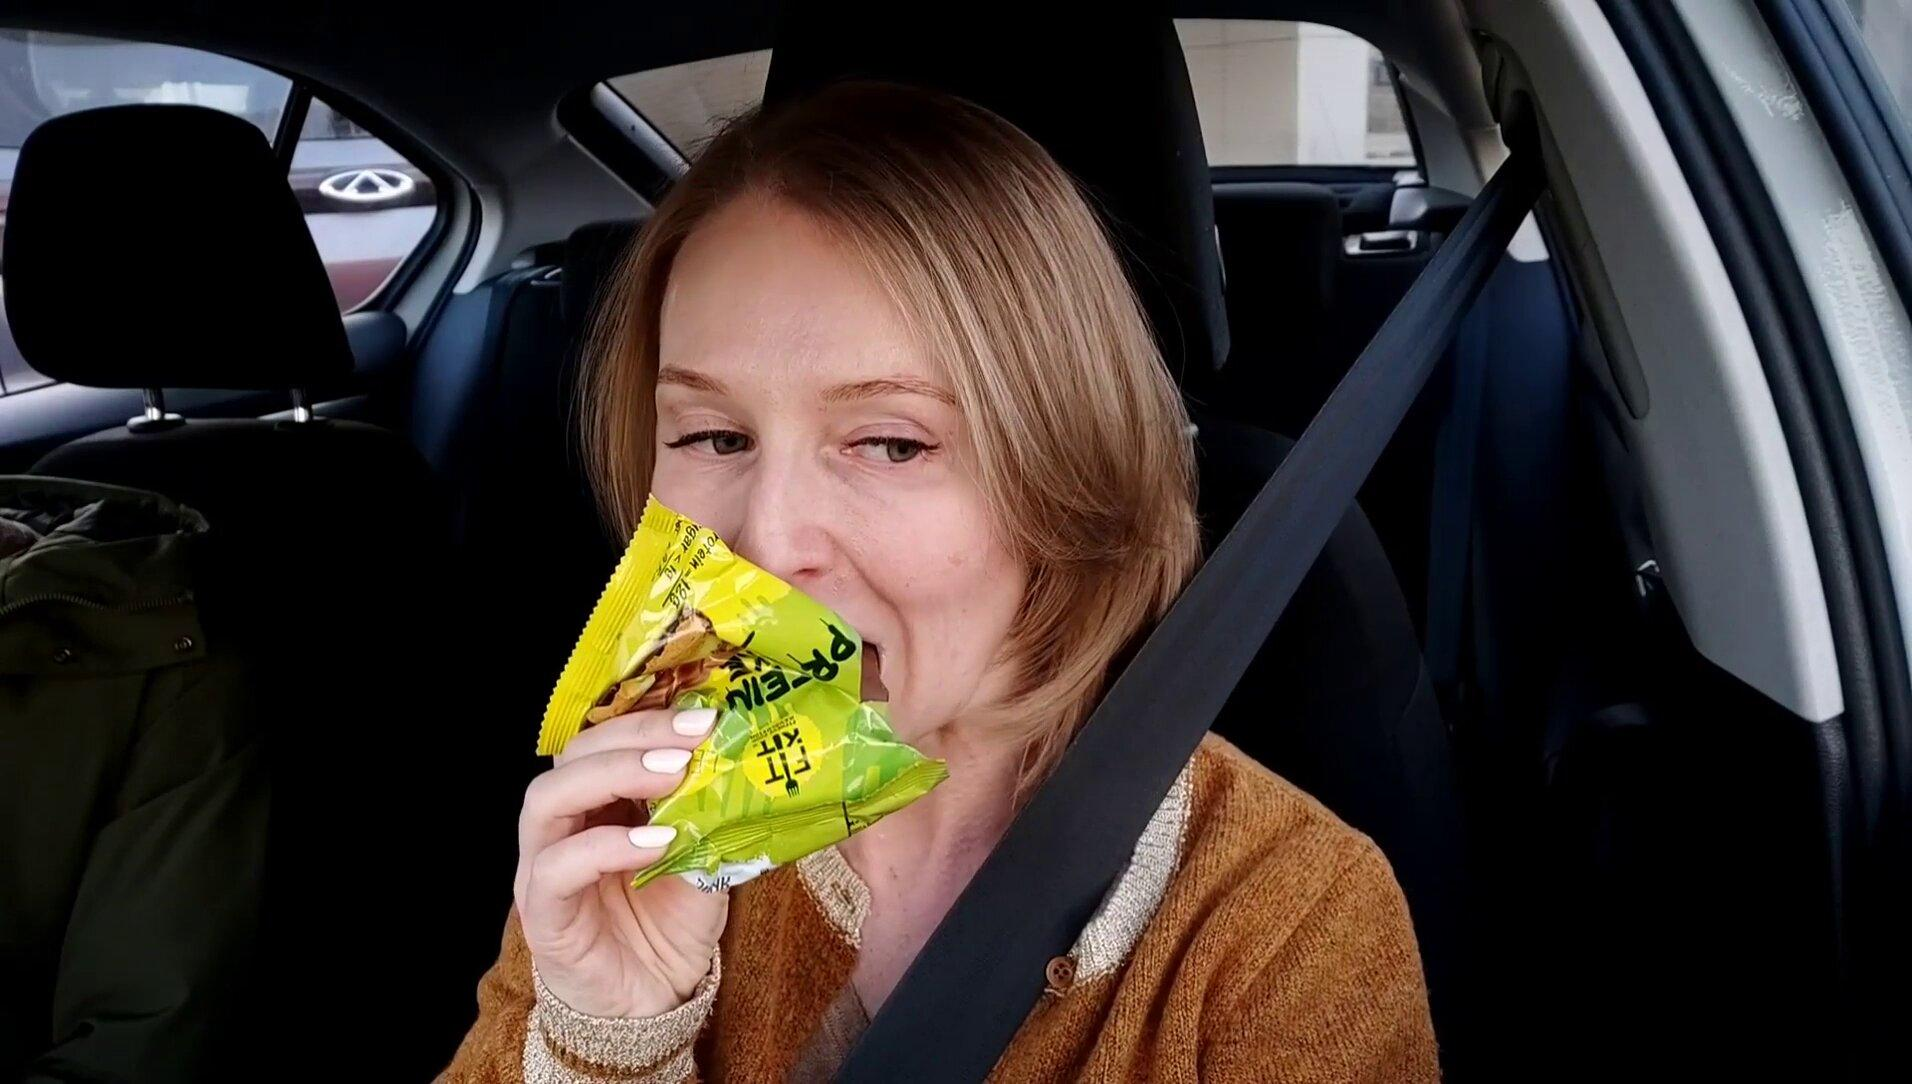Eating: (531, 489, 948, 908)
